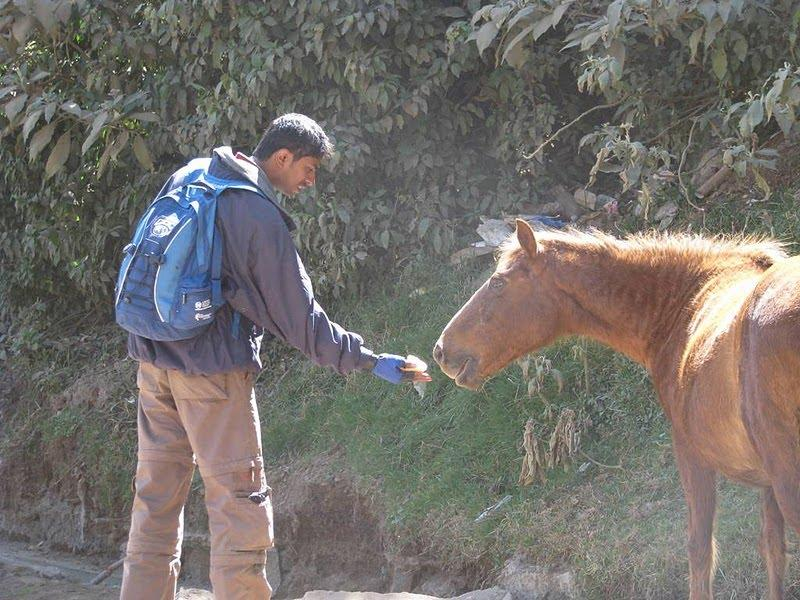person: (125, 110, 431, 600)
